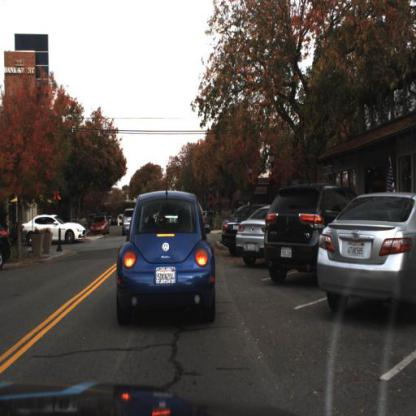car: (116, 184, 219, 328), (317, 191, 416, 316), (263, 184, 358, 287), (21, 211, 87, 248), (237, 207, 270, 267), (220, 206, 249, 257), (2, 218, 12, 267), (91, 211, 110, 236), (121, 208, 136, 236)
